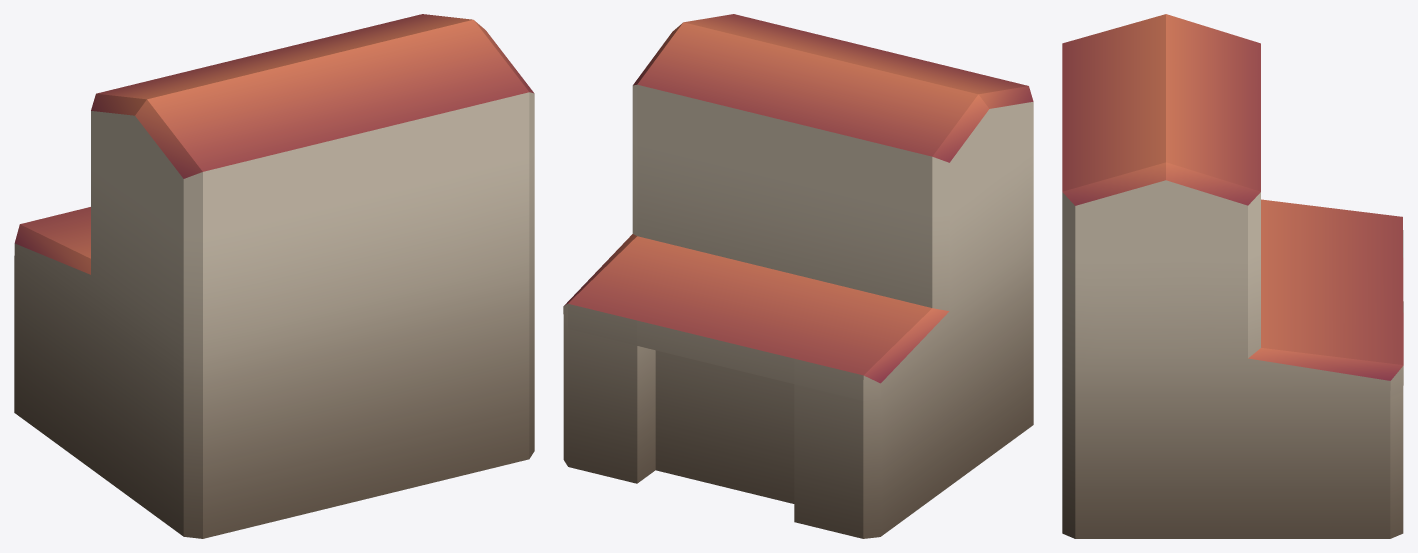
Rendered from HQbuilding.fbx.
3 views of the same model, side by side, from view 1: azimuth 30°, elevation 25°; view 2: azimuth 150°, elevation 25°; view 3: azimuth 270°, elevation 25° (orthographic). The views are drawn at different scales.
Parts seen in each view (by area): view 1: geo_hq; view 2: geo_hq; view 3: geo_hq.
Boxes of the visible parts, left/top/right/bottom form: geo_hq: left=14, top=14, right=534, bottom=538; geo_hq: left=563, top=14, right=1033, bottom=538; geo_hq: left=1062, top=14, right=1403, bottom=538.
Bounding box in the file's own units: 42.87 × 46.57 × 38.85.
